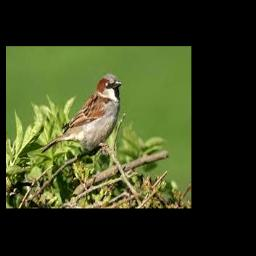Sparrow: (40, 74, 122, 155)
